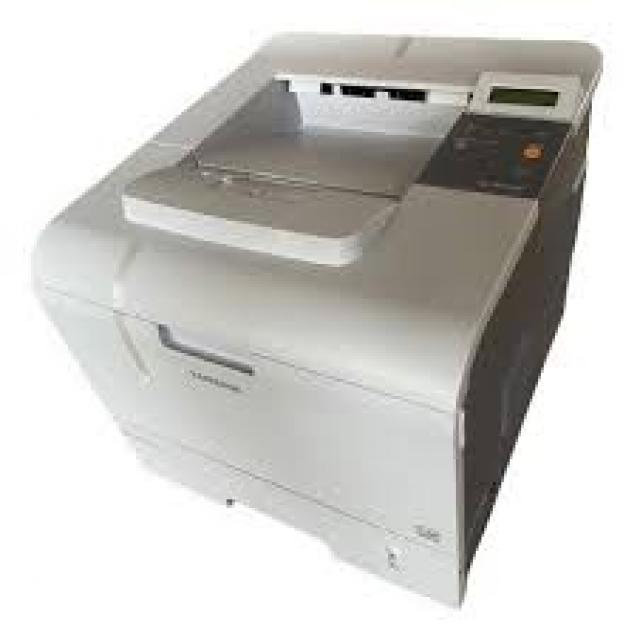printer: (27, 29, 607, 610)
